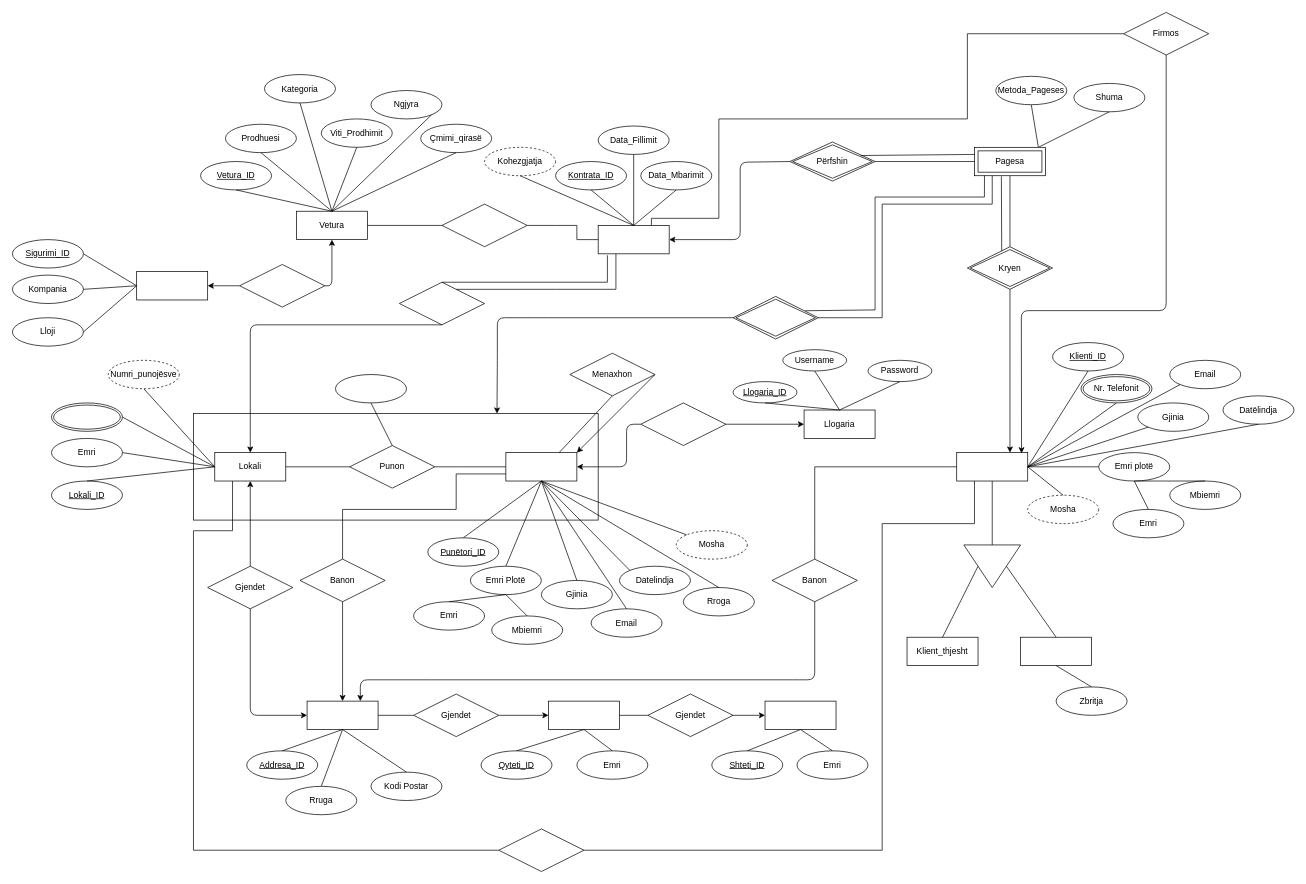
Image size: 1306x884. Some labels were removed from this diagram. The box of each missing label's shape, as (x1, y1, x2, y2) in pixels:
Adresa: (306, 700, 378, 730)
ISA: (963, 544, 1021, 588)
Ka: (239, 264, 325, 307)
Klient_premium: (1020, 637, 1092, 666)
Klienti: (956, 452, 1028, 481)
Kontrata: (597, 225, 669, 254)
Kryen_Shërbime: (498, 828, 584, 872)
Nr. Kontaktues: (51, 402, 122, 431)
Orari: (335, 374, 406, 403)
Posedon: (640, 402, 726, 446)
Pranon: (732, 296, 818, 339)
Punëtori: (505, 452, 577, 481)
Përpilon: (399, 282, 485, 325)
Qyteti: (548, 700, 619, 730)
Shteti: (764, 700, 836, 730)
Sigurimi: (136, 271, 208, 300)
Zgjedh: (441, 203, 527, 247)
